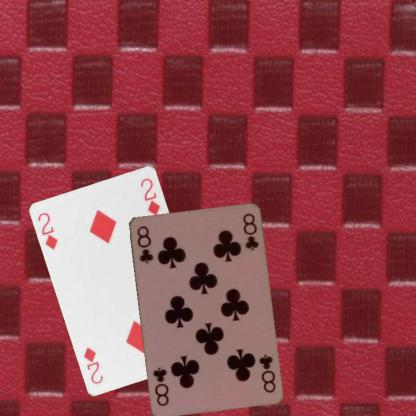2d: (35, 210, 60, 251)
8c: (256, 351, 276, 394), (134, 223, 154, 265)
